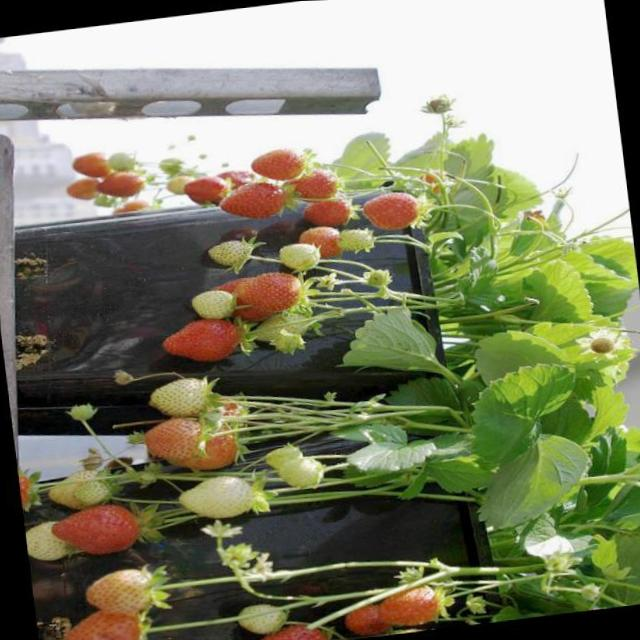ripe: (42, 498, 146, 560), (153, 310, 246, 370), (231, 261, 309, 320), (210, 166, 290, 223), (49, 599, 157, 640), (374, 583, 454, 625), (241, 268, 316, 311), (242, 142, 313, 184), (288, 224, 353, 259), (88, 165, 149, 202), (360, 190, 421, 227), (340, 602, 406, 636), (182, 166, 230, 210), (248, 619, 329, 640), (301, 192, 354, 224), (64, 169, 100, 211), (71, 147, 110, 178)
